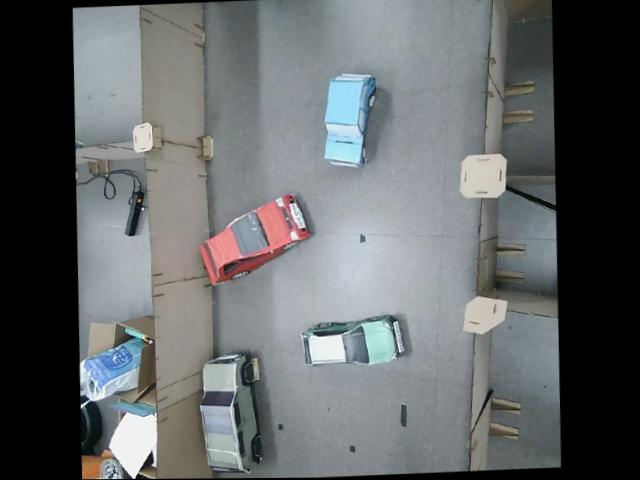car: (194, 190, 315, 287), (195, 350, 265, 477), (297, 311, 410, 370), (318, 70, 381, 172)
